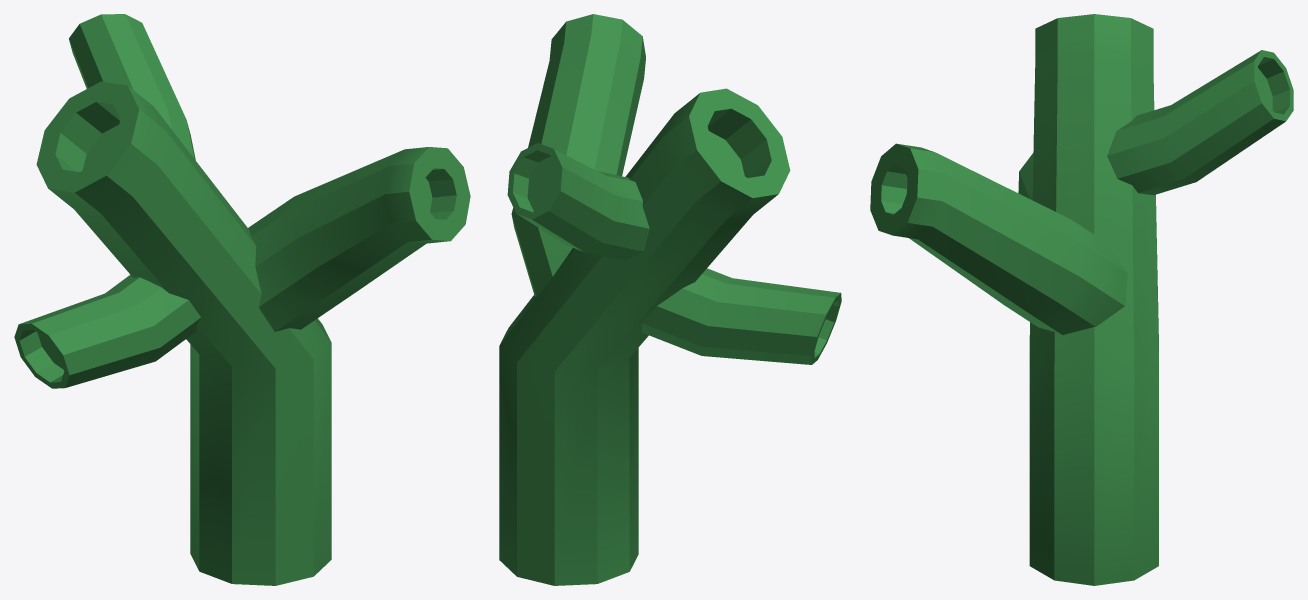
Rendered from Coral green.fbx.
3 views of the same model, side by side, from view 1: azimuth 30°, elevation 25°; view 2: azimuth 150°, elevation 25°; view 3: azimuth 270°, elevation 25° (orthographic). The views are drawn at different scales.
Parts seen in each view (by area): view 1: Coral_green; view 2: Coral_green; view 3: Coral_green.
Boxes of the visible parts, left/top/right/bottom form: Coral_green: left=14, top=14, right=470, bottom=585; Coral_green: left=499, top=14, right=841, bottom=585; Coral_green: left=870, top=14, right=1293, bottom=585.
Size of the model in its own units: 33.86 by 44.8 by 35.72.
